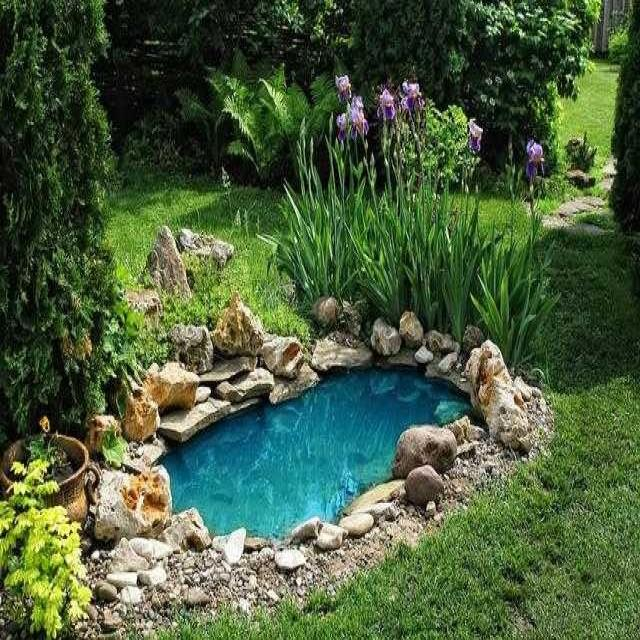Ponds: (83, 301, 556, 617)
